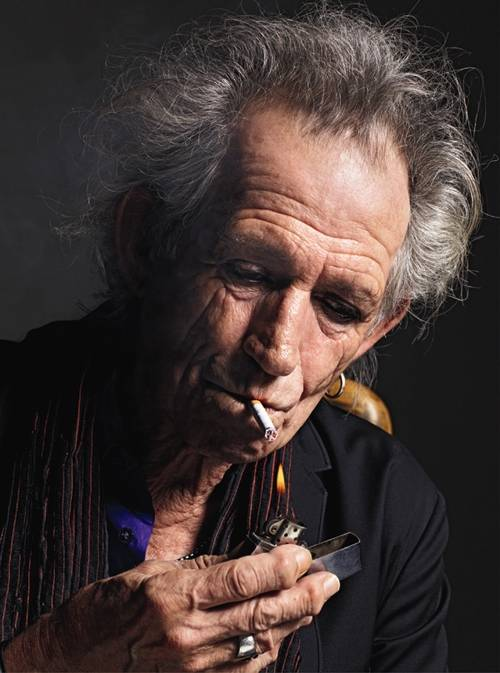cigarette: (237, 392, 287, 447)
